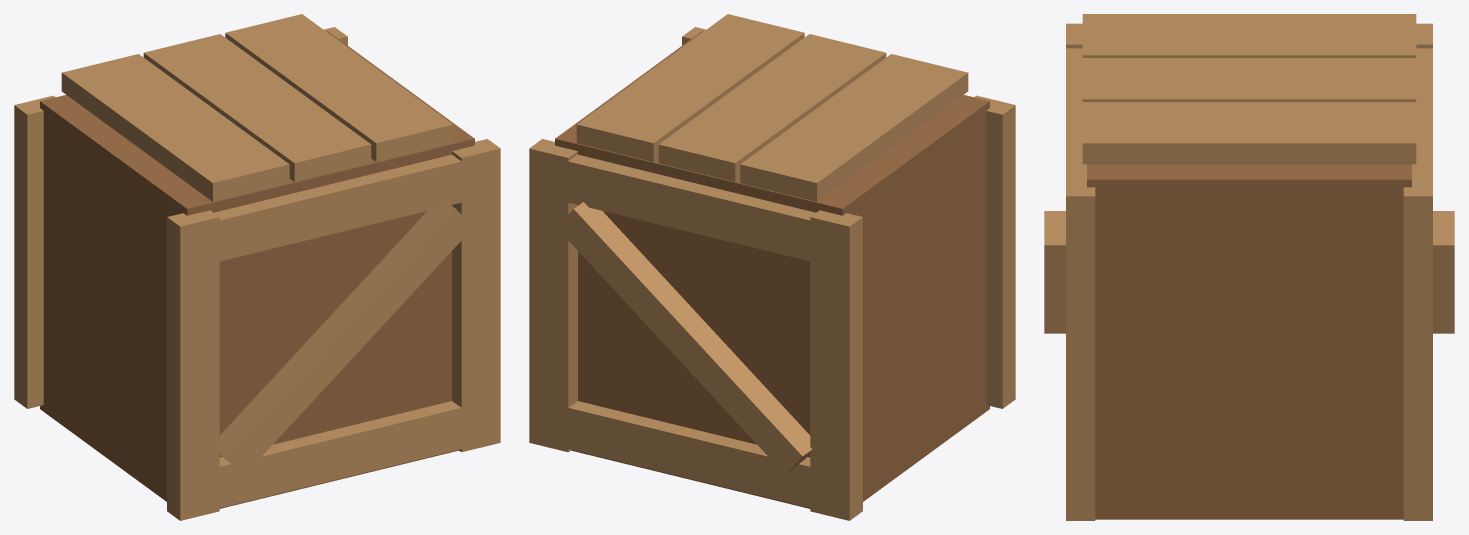
The model's file is 01_SupplyCrate.glb.
3 views of the same model, side by side, from view 1: azimuth 30°, elevation 25°; view 2: azimuth 150°, elevation 25°; view 3: azimuth 270°, elevation 25° (orthographic). The views are drawn at different scales.
Parts seen in each view (by area): view 1: Crate body, Corner frame, Lid plank, Diagonal brace, Horizontal frame.002, Horizontal frame, Lid plank.001, Lid plank.002, Corner frame.002, Corner frame.001, Horizontal frame.001, Horizontal frame.003; view 2: Crate body, Corner frame.001, Lid plank, Diagonal brace.001, Horizontal frame.003, Horizontal frame.001, Lid plank.001, Lid plank.002, Corner frame.003, Corner frame, Horizontal frame.002, Horizontal frame; view 3: Crate body, Lid plank.002, Lid plank, Lid plank.001, Corner frame.003, Corner frame.002, Horizontal frame.003, Horizontal frame.002, Diagonal brace, Diagonal brace.001, Horizontal frame, Horizontal frame.001.
Boxes of the visible parts, x1,y1,x2,y2 form: Crate body: (40, 31, 474, 508); Corner frame: (167, 210, 219, 520); Lid plank: (61, 54, 289, 201); Diagonal brace: (217, 202, 473, 474); Horizontal frame.002: (167, 152, 500, 270); Horizontal frame: (167, 400, 497, 516); Lid plank.001: (143, 34, 371, 181); Lid plank.002: (225, 14, 453, 161); Corner frame.002: (452, 139, 500, 452); Corner frame.001: (14, 95, 55, 408); Horizontal frame.001: (14, 355, 43, 405); Horizontal frame.003: (14, 40, 347, 158); Crate body: (555, 31, 989, 508); Corner frame.001: (810, 210, 862, 520); Lid plank: (740, 54, 968, 201); Diagonal brace.001: (556, 202, 812, 474); Horizontal frame.003: (529, 152, 862, 270); Horizontal frame.001: (529, 398, 862, 516); Lid plank.001: (658, 34, 886, 181); Lid plank.002: (576, 14, 804, 161); Corner frame.003: (529, 139, 577, 452); Corner frame: (974, 95, 1015, 408); Horizontal frame.002: (682, 41, 1015, 159); Horizontal frame: (986, 356, 1015, 405); Crate body: (1087, 164, 1411, 519); Lid plank.002: (1082, 102, 1416, 164); Lid plank: (1082, 14, 1416, 57); Lid plank.001: (1082, 58, 1416, 101); Corner frame.003: (1403, 175, 1432, 520); Corner frame.002: (1066, 175, 1095, 520); Horizontal frame.003: (1403, 48, 1432, 245); Horizontal frame.002: (1066, 48, 1094, 245); Diagonal brace: (1044, 211, 1065, 333); Diagonal brace.001: (1433, 211, 1454, 333); Horizontal frame: (1066, 472, 1095, 517); Horizontal frame.001: (1403, 472, 1432, 517).
Bounding box in the file's own units: 0.98 × 0.9625 × 0.985.
